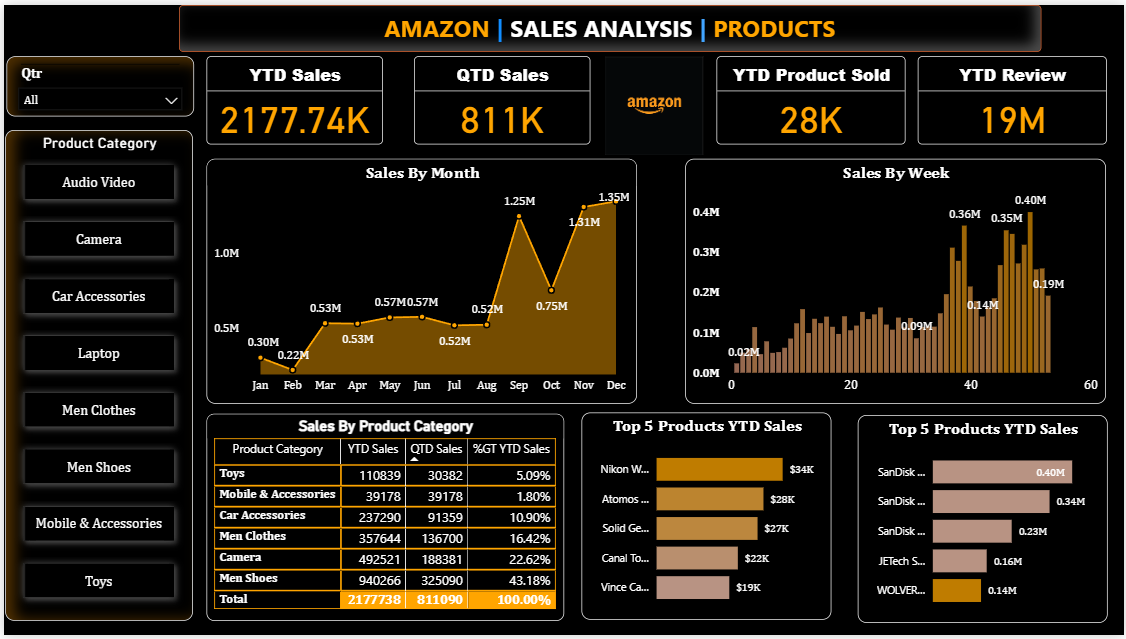

Layout of this report page (visuals, bound fields, positions):
{"tool":"powerbi","page":{"name":"Page 1","canvas":[1280,720],"ordinal":0},"visuals":[{"type":"areaChart","title":"Sales By Month","fields":{"Category":["Date Table.Month Name"],"Y":["Sum(Amazon_Data.Price(Dollar))"]},"box":[231.9,175.5,492,279.8],"z":0},{"type":"clusteredColumnChart","title":"Sales By Week","fields":{"Y":["Sum(Amazon_Data.Price(Dollar))"],"Category":["Date Table.Week"]},"box":[779.1,175.5,481,279.8],"z":1000},{"type":"card","fields":{"Values":["Amazon_Data.YTD Sales"]},"box":[231.9,58.9,201.2,100.6],"z":2000},{"type":"card","fields":{"Values":["Amazon_Data.QTD Sales"]},"box":[468.7,58.9,201.2,100.6],"z":3000},{"type":"card","fields":{"Values":["Amazon_Data.YTD Product Sold"]},"box":[814.7,58.9,216,100.6],"z":4000},{"type":"card","fields":{"Values":["Amazon_Data.YTD Reviews"]},"box":[1044.2,58.9,216,100.6],"z":5000},{"type":"clusteredBarChart","title":"Top 5 Products YTD Sales","fields":{"Y":["Amazon_Data.YTD Sales"],"Category":["Amazon_Data.Product Description"]},"box":[660.1,466.3,285.9,236.8],"z":6000},{"type":"pivotTable","title":"Sales By Product Category","fields":{"Rows":["Amazon_Data.Product Category"],"Values":["Amazon_Data.YTD Sales","Amazon_Data.QTD Sales","Divide(Amazon_Data.YTD Sales, ScopedEval(Amazon_Data.YTD Sales, []))"]},"box":[231.9,467.5,408.6,236.8],"z":7000},{"type":"slicer","fields":{"Values":["Date Table.Qtr"]},"box":[2.5,58.9,214.7,68.7],"z":8000},{"type":"advancedSlicerVisual","fields":{"Values":["Amazon_Data.Product Category"]},"box":[1.2,142.3,214.7,560.7],"z":9000},{"type":"textbox","box":[200,0,985.3,54],"z":10000},{"type":"clusteredBarChart","title":"Top 5 Products YTD Sales","fields":{"Category":["Amazon_Data.Product Description"],"Y":["Amazon_Data.YTD Reviews"]},"box":[975.6,467.9,285.4,237.4],"z":11000},{"type":"image","box":[660.1,54,166.9,121.5],"z":12000}]}

Visuals, with their boxes in screenshot pixels (x1, y1, x2, y2), scaled from the page's 1280x720 canvas onto the 1126x639 screenshot:
"Sales By Month" areaChart: crop(204, 156, 637, 404)
"Sales By Week" clusteredColumnChart: crop(685, 156, 1108, 404)
card - Amazon_Data.YTD Sales: crop(204, 52, 381, 142)
card - Amazon_Data.QTD Sales: crop(412, 52, 589, 142)
card - Amazon_Data.YTD Product Sold: crop(717, 52, 907, 142)
card - Amazon_Data.YTD Reviews: crop(919, 52, 1109, 142)
"Top 5 Products YTD Sales" clusteredBarChart: crop(581, 414, 832, 624)
"Sales By Product Category" pivotTable: crop(204, 415, 563, 625)
slicer - Date Table.Qtr: crop(2, 52, 191, 113)
advancedSlicerVisual - Amazon_Data.Product Category: crop(1, 126, 190, 624)
textbox: crop(176, 0, 1043, 48)
"Top 5 Products YTD Sales" clusteredBarChart: crop(858, 415, 1109, 626)
image: crop(581, 48, 728, 156)
